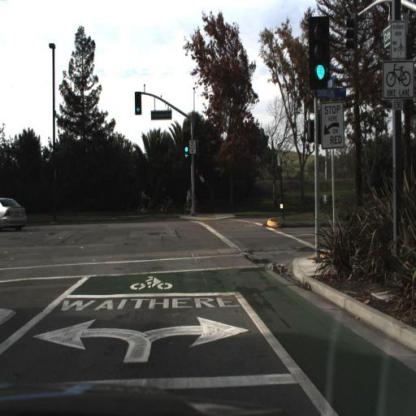biker: (136, 189, 158, 218), (156, 189, 178, 217), (184, 187, 201, 216)
car: (1, 198, 27, 235)
trafficLight: (183, 132, 192, 161)
trafficLight-Green: (312, 15, 334, 93)
trafficLight-GreenLeft: (135, 91, 142, 117)
